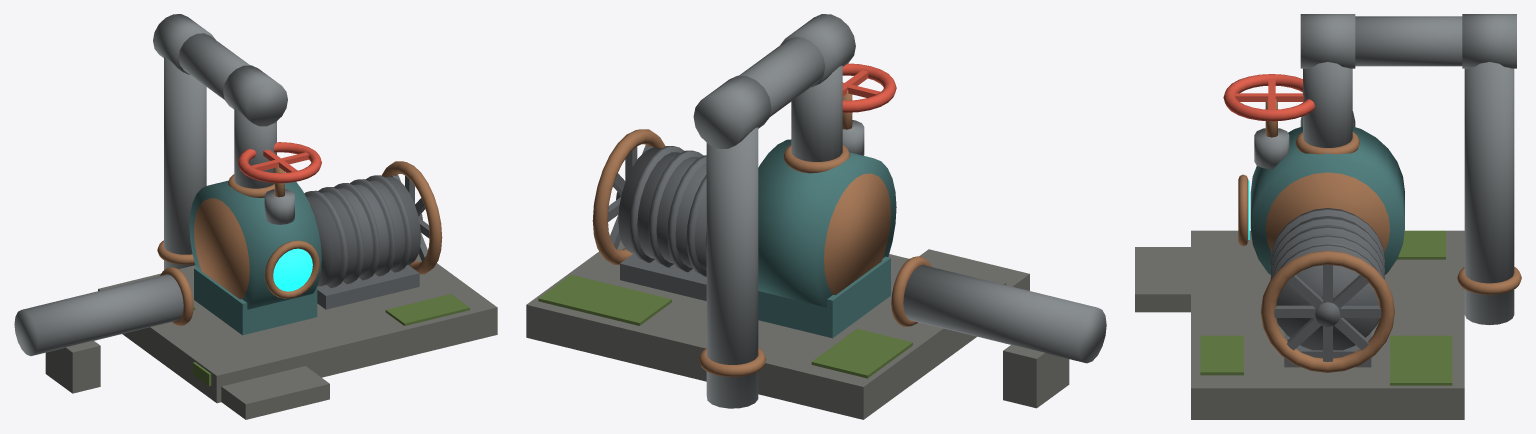
File: chapter1_pump.glb
3 views of the same model, side by side, from view 1: azimuth 30°, elevation 25°; view 2: azimuth 150°, elevation 25°; view 3: azimuth 270°, elevation 25° (orthographic). The views are drawn at different scales.
Visible parts, largest first — view 1: PumpBody, PumpRotor, PumpGlow; view 2: PumpBody, PumpRotor; view 3: PumpBody, PumpRotor.
Part boxes in pixels (<box>): PumpBody: <box>14,14,497,419</box>; PumpRotor: <box>381,161,442,274</box>; PumpGlow: <box>273,248,312,291</box>; PumpBody: <box>526,14,1106,419</box>; PumpRotor: <box>592,129,665,264</box>; PumpBody: <box>1135,14,1521,419</box>; PumpRotor: <box>1260,250,1394,372</box>.
Size of the model in its own units: 4.4 by 2.67 by 3.11.
